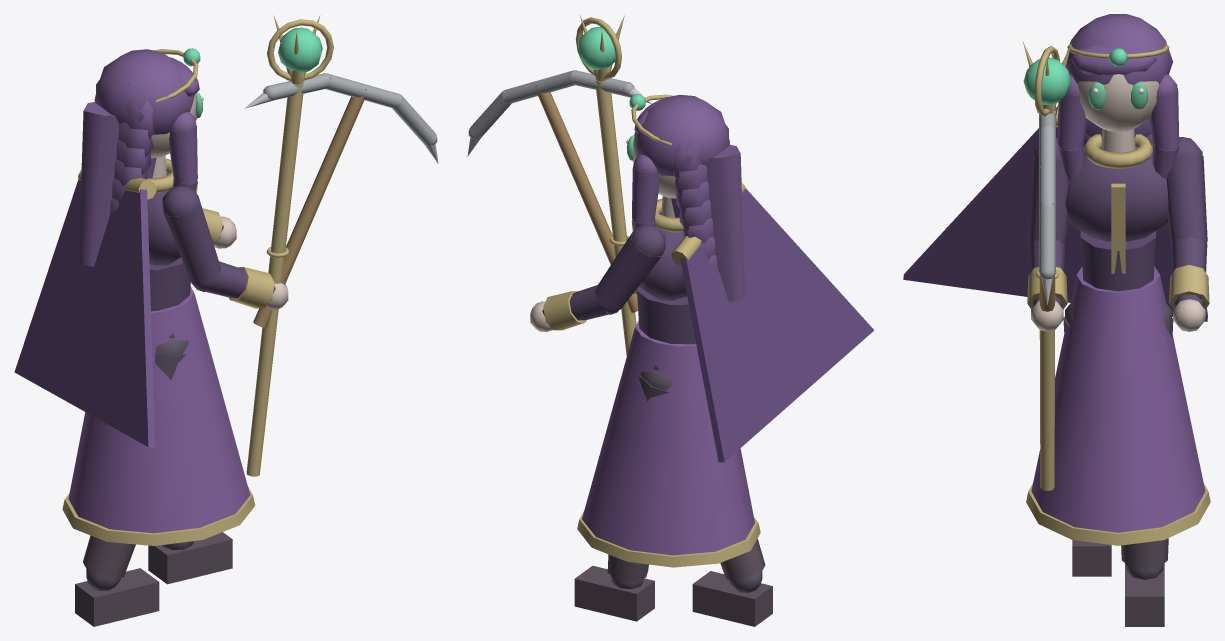
The model's file is hero_5_soul_keeper.glb.
The picture shows the model from 3 angles, left to right: view 1: azimuth 30°, elevation 25°; view 2: azimuth 150°, elevation 25°; view 3: azimuth 270°, elevation 25°; orthographic projection. The views are drawn at different scales.
Visible parts, largest first — view 1: Hips, Cape, Head, Weapon, Pickaxe, LegR, ArmR, Torso, LegL, ArmL; view 2: Hips, Cape, Head, ArmL, Pickaxe, Weapon, Torso, LegL, LegR; view 3: Hips, Head, Cape, Torso, ArmL, Weapon, LegL, ArmR, Pickaxe, LegR.
Part boxes in pixels (left/top/right/bottom): Hips: left=62, top=287, right=255, bottom=545; Cape: left=14, top=169, right=156, bottom=447; Head: left=78, top=48, right=203, bottom=266; Weapon: left=246, top=15, right=333, bottom=476; Pickaxe: left=244, top=73, right=438, bottom=327; LegR: left=75, top=339, right=188, bottom=626; ArmR: left=162, top=186, right=288, bottom=309; Torso: left=147, top=155, right=197, bottom=338; LegL: left=148, top=532, right=232, bottom=584; ArmL: left=202, top=208, right=236, bottom=248; Hips: left=577, top=321, right=760, bottom=567; Cape: left=671, top=182, right=874, bottom=462; Head: left=626, top=94, right=745, bottom=301; ArmL: left=530, top=225, right=665, bottom=331; Pickaxe: left=467, top=70, right=651, bottom=312; Weapon: left=575, top=15, right=636, bottom=356; Torso: left=631, top=196, right=695, bottom=369; LegL: left=574, top=370, right=671, bottom=621; LegR: left=692, top=538, right=772, bottom=626; Hips: left=1026, top=266, right=1210, bottom=545; Head: left=1057, top=14, right=1179, bottom=181; Cape: left=903, top=105, right=1207, bottom=321; Torso: left=1065, top=129, right=1168, bottom=301; ArmL: left=1166, top=137, right=1209, bottom=331; Weapon: left=1023, top=42, right=1071, bottom=490; LegL: left=1121, top=303, right=1173, bottom=626; ArmR: left=1027, top=137, right=1068, bottom=331; Pickaxe: left=1039, top=106, right=1055, bottom=311; LegR: left=1063, top=303, right=1111, bottom=576.
Size of the model in its own units: 1.81 by 2.74 by 1.29.
